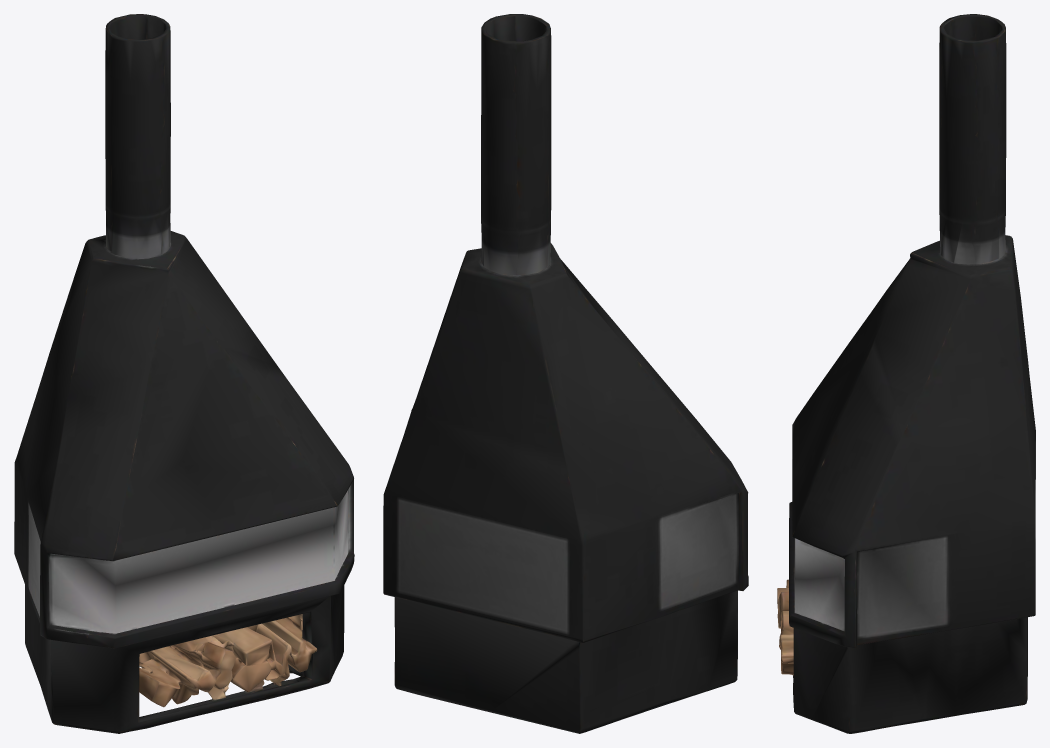
The model's file is suspended-black-fireplace.glb.
3 renders of one model, left to right at view 1: azimuth 30°, elevation 25°; view 2: azimuth 150°, elevation 25°; view 3: azimuth 270°, elevation 25°, orthographic. The views are drawn at different scales.
Visible parts, largest first — view 1: world; view 2: world; view 3: world.
Boxes of the visible parts, <box> form: world: <box>14,14,354,733</box>; world: <box>383,14,748,733</box>; world: <box>777,14,1035,733</box>.
Bounding box in the file's own units: 0.5247 × 1 × 0.369.
Materials: 1 (1 with a texture image).
